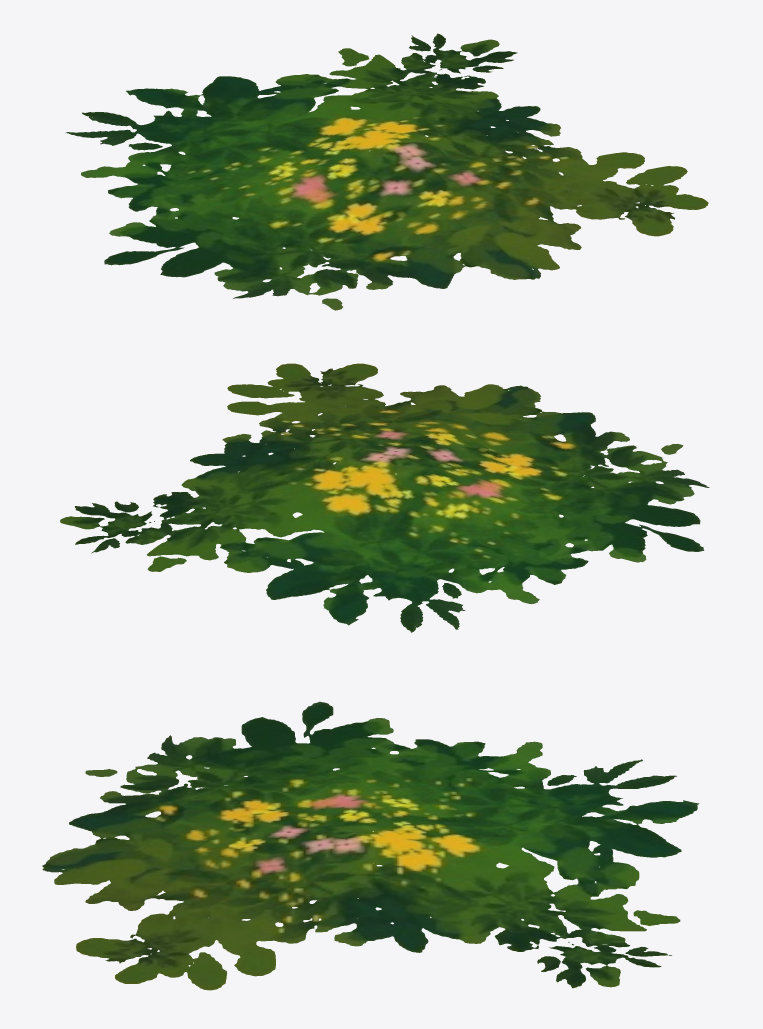
File: SM_Seamoss_03.fbx
The picture shows the model from 3 angles, top to bottom: view 1: azimuth 30°, elevation 25°; view 2: azimuth 150°, elevation 25°; view 3: azimuth 270°, elevation 25°; orthographic projection. The views are drawn at different scales.
Visible parts, largest first — view 1: SM_Seamoss_03; view 2: SM_Seamoss_03; view 3: SM_Seamoss_03.
Boxes of the visible parts, x1,y1,x2,y2 form: SM_Seamoss_03: (65,33,708,310); SM_Seamoss_03: (60,363,709,632); SM_Seamoss_03: (42,701,699,990).
Bounding box in the file's own units: 0.3941 × 0.0182 × 0.3747.
1 material, 1 textured.
